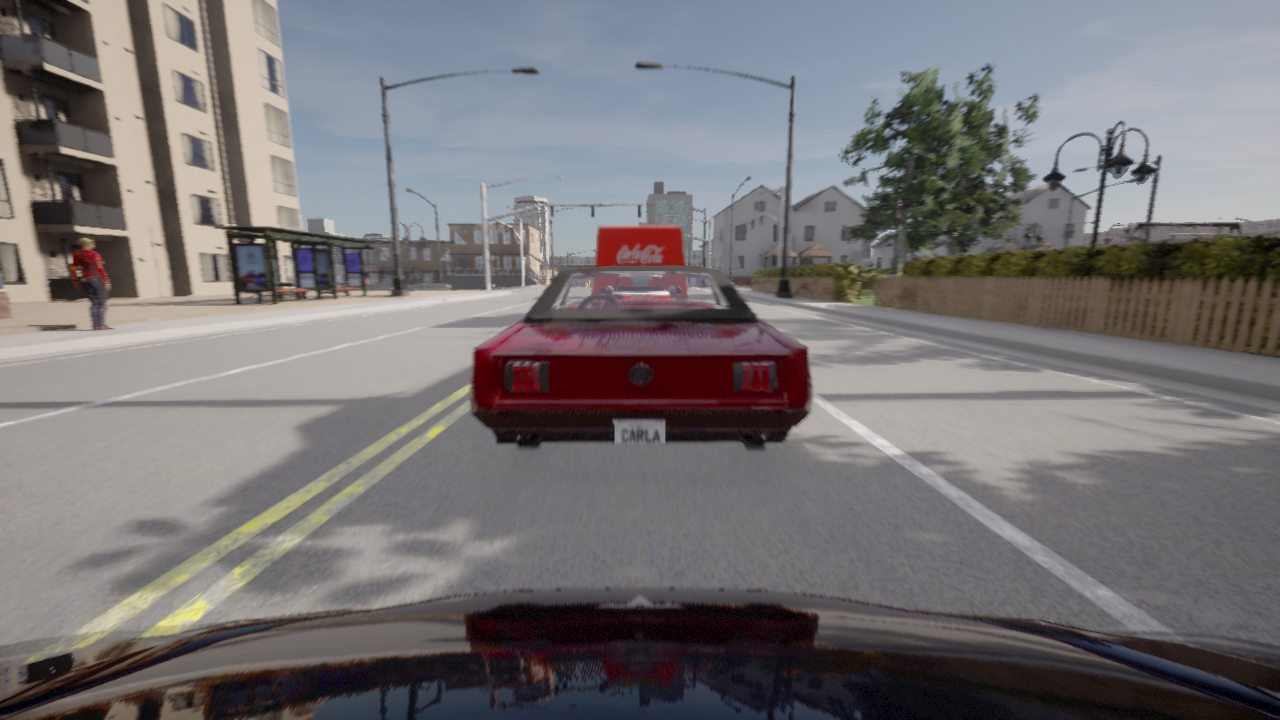cyclist: (0, 588, 1279, 719), (470, 265, 812, 445), (595, 226, 684, 266)
pedestrian: (70, 237, 115, 330)
